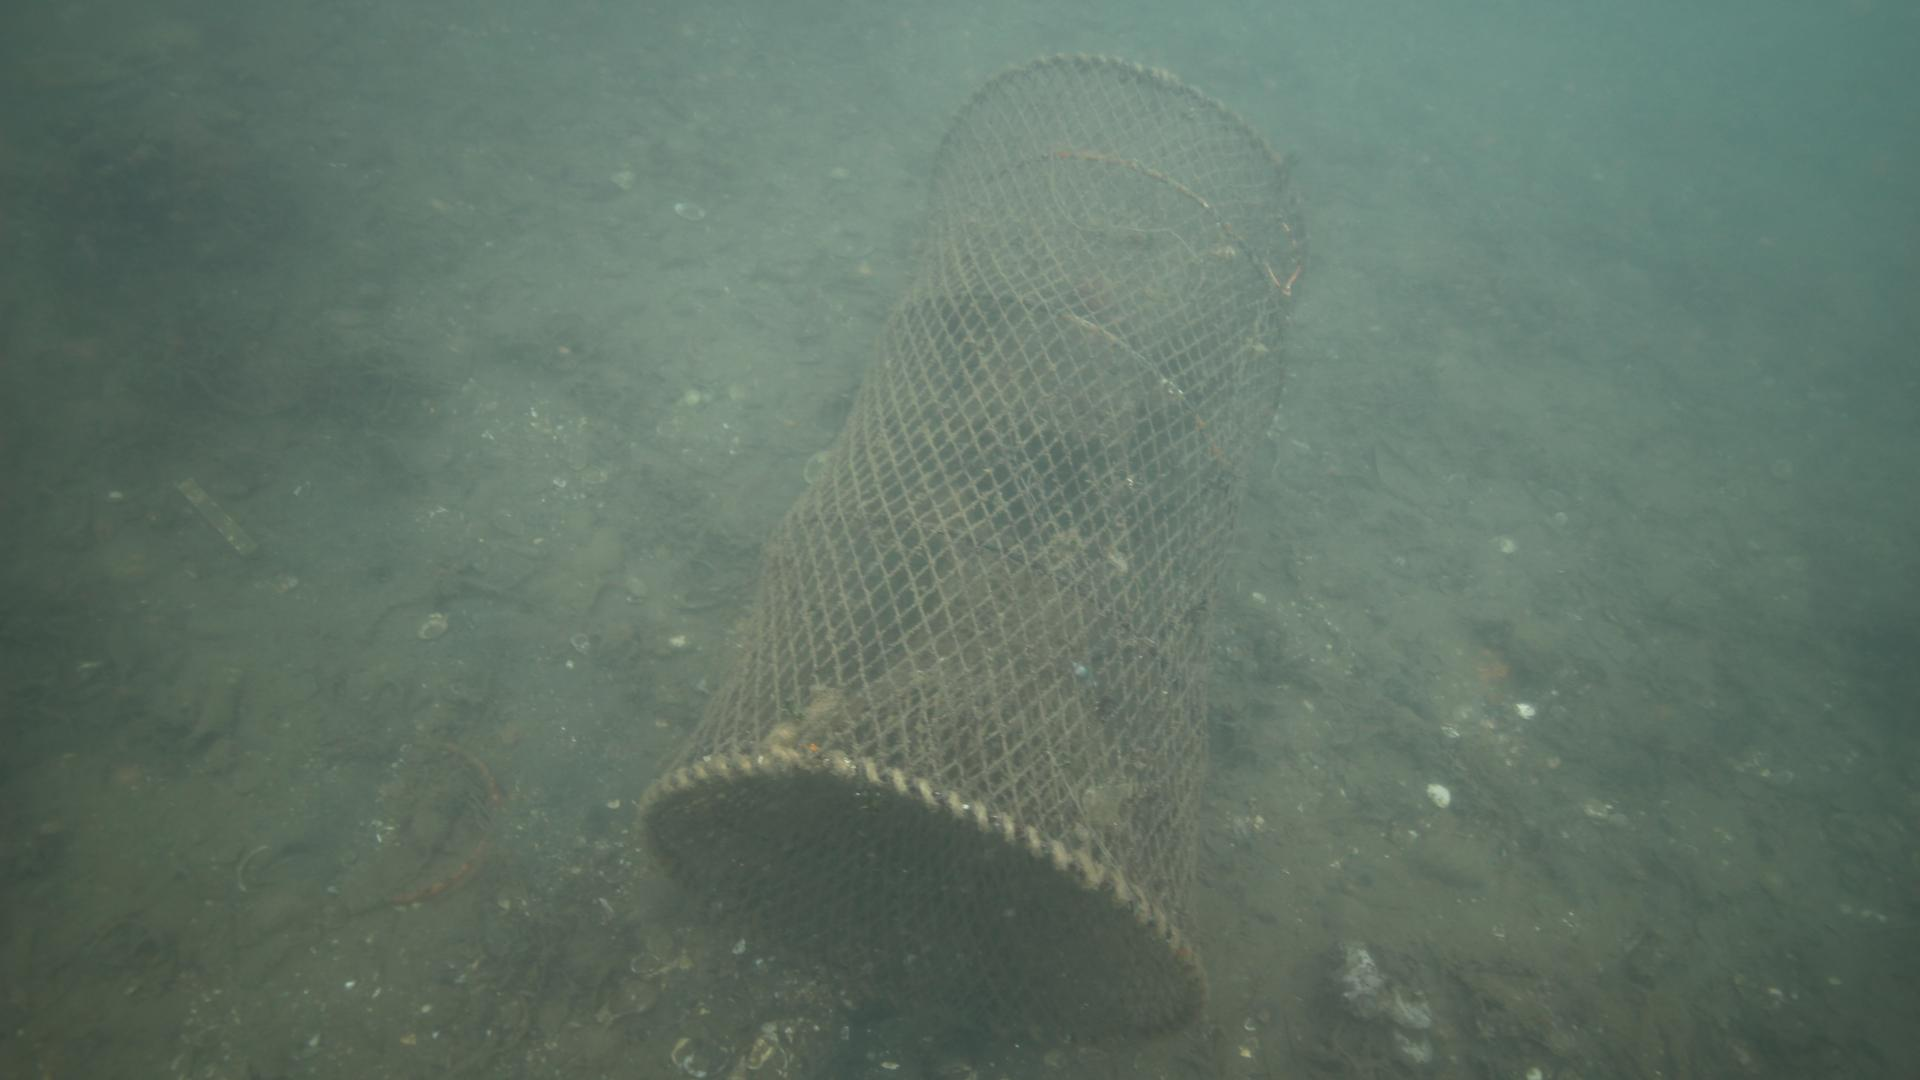spring fish trap: (622, 51, 1302, 1055)
